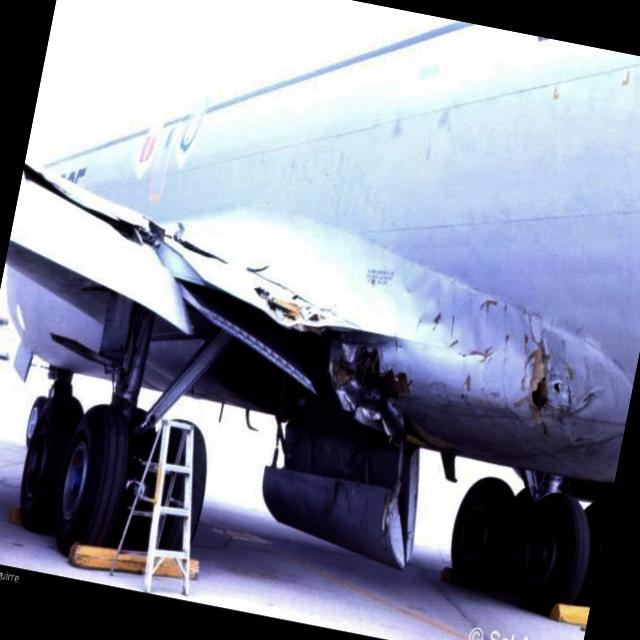crack: (518, 340, 571, 446)
dent: (392, 270, 540, 396)
